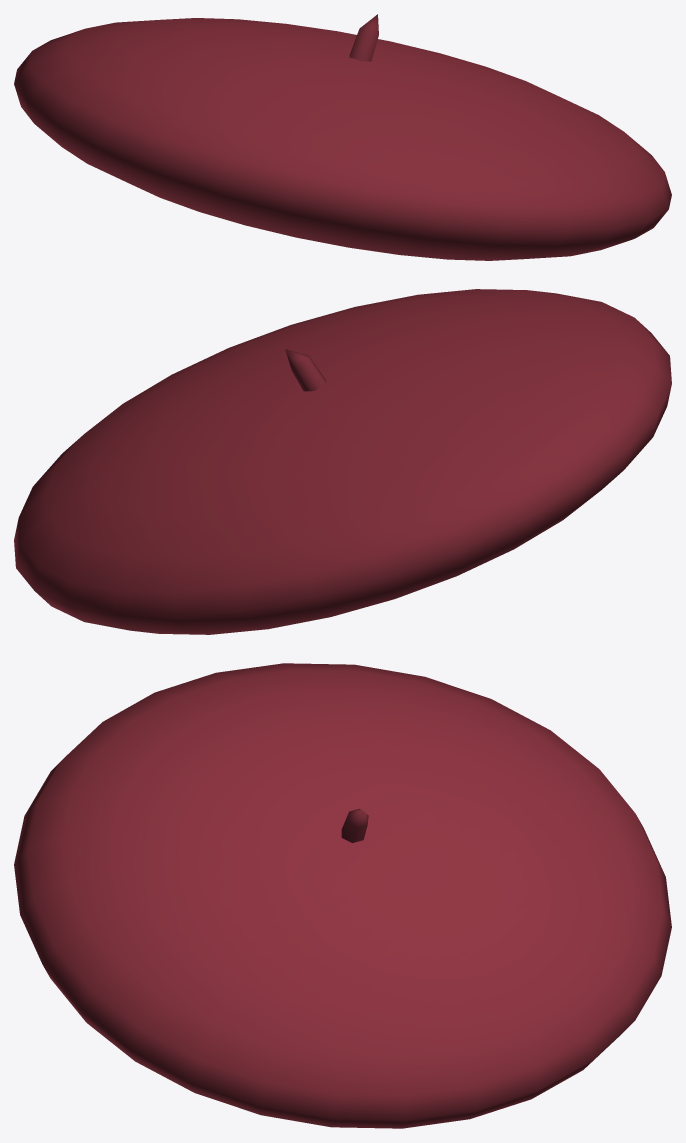
File: Wear_Beret.fbx
The picture shows the model from 3 angles, top to bottom: view 1: azimuth 30°, elevation 25°; view 2: azimuth 150°, elevation 25°; view 3: azimuth 270°, elevation 25°; orthographic projection. The views are drawn at different scales.
Visible parts, largest first — view 1: Wear_Beret; view 2: Wear_Beret; view 3: Wear_Beret.
Part boxes in pixels (x1=…): Wear_Beret: x1=14, y1=14, x2=671, y2=260; Wear_Beret: x1=14, y1=289, x2=671, y2=634; Wear_Beret: x1=14, y1=663, x2=671, y2=1128.
Bounding box in the file's own units: 0.1461 × 0.057 × 0.1472.
